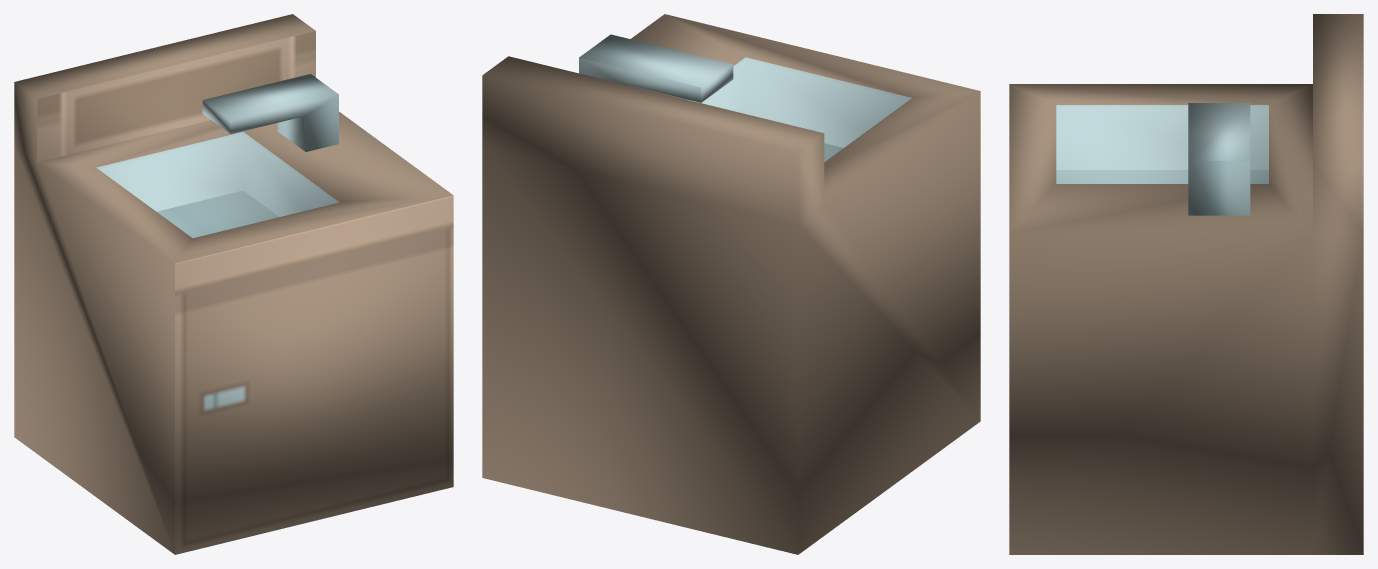
Rendered from sink.fbx.
The picture shows the model from 3 angles, left to right: view 1: azimuth 30°, elevation 25°; view 2: azimuth 150°, elevation 25°; view 3: azimuth 270°, elevation 25°; orthographic projection. The views are drawn at different scales.
Visible parts, largest first — view 1: sink; view 2: sink; view 3: sink.
Part boxes in pixels (bbox=[...]): sink: bbox=[14, 14, 453, 554]; sink: bbox=[482, 14, 980, 554]; sink: bbox=[1009, 14, 1363, 554].
Size of the model in its own units: 516 by 628 by 516.
Materials: 1 (1 with a texture image).
